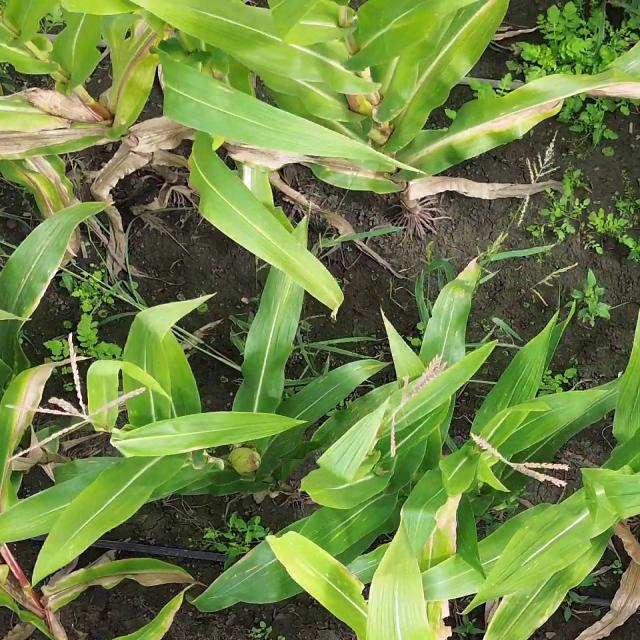gray-leaf-spot: (316, 516, 372, 546)
northern-leaf-blight: (436, 100, 530, 158), (316, 154, 396, 192), (64, 569, 178, 593), (10, 375, 48, 442), (120, 43, 157, 104), (12, 166, 49, 218), (36, 162, 76, 200)
